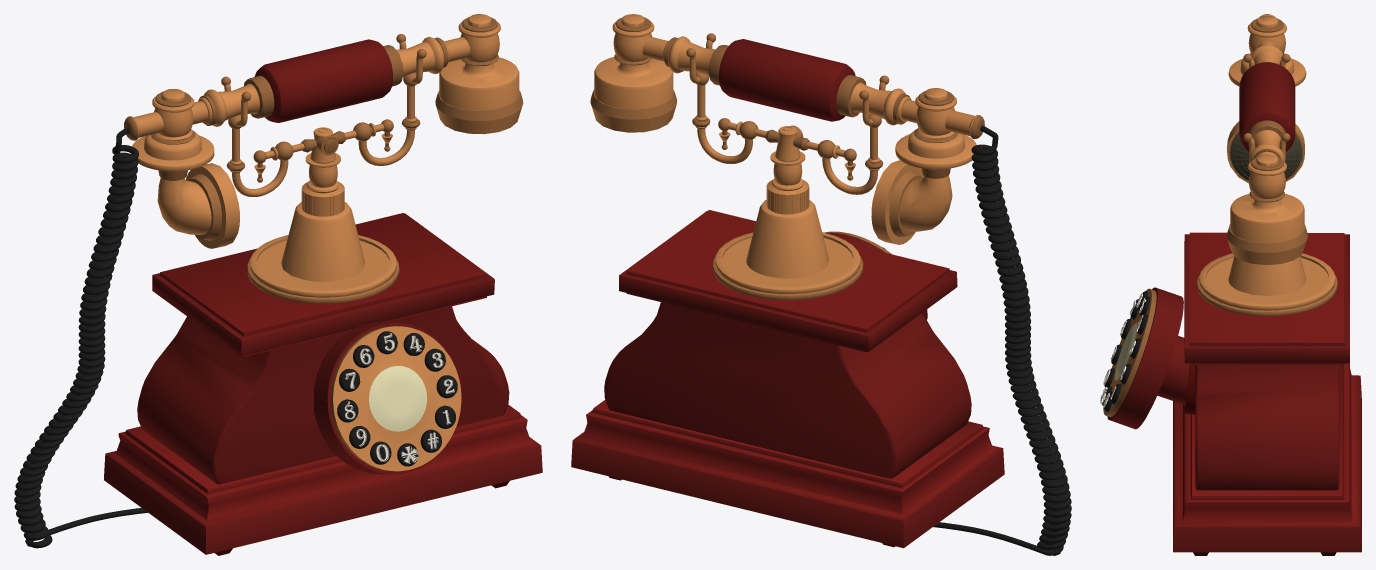
File: antique_telephone.lod1.glb
3 renders of one model, left to right at view 1: azimuth 30°, elevation 25°; view 2: azimuth 150°, elevation 25°; view 3: azimuth 270°, elevation 25°, orthographic. The views are drawn at different scales.
Parts seen in each view (by area): view 1: Cube.006_40, Cube.001_38, Cube_37, Circle.033_42, Circle.035_46, Cylinder.009_13, Circle.002_2, Circle.001_1, Circle.040_43, Cylinder.011_23, Circle.031_31, Circle.032_41 (+18 smaller); view 2: Cube.006_40, Cube.001_38, Cube_37, Circle.035_46, Cylinder.009_13, Circle.002_2, Circle.001_1, Cylinder.011_23, Circle.031_31, Circle.036_52, Circle.003_54, Cylinder.012_24 (+15 smaller); view 3: Cube.006_40, Cube.001_38, Cube_37, Circle.032_41, Circle.001_1, Cylinder.009_13, Cylinder.011_23, Circle.002_2, Circle.033_42, Cylinder.012_24, Circle.046_44, Circle.031_31 (+10 smaller).
Boxes of the visible parts, x1,y1,x2,y2 form: Cube.006_40: (137,306,509,484); Cube.001_38: (104,404,542,554); Cube_37: (152,213,494,357); Circle.033_42: (330,326,461,471); Circle.035_46: (14,145,138,548); Cylinder.009_13: (254,39,392,122); Circle.002_2: (281,202,364,281); Circle.001_1: (250,235,396,297); Circle.040_43: (337,331,457,466); Cylinder.011_23: (439,57,519,130); Circle.031_31: (203,36,444,126); Circle.032_41: (314,322,461,474); Cube.006_40: (604,302,971,478); Cube.001_38: (571,400,1004,548); Cube_37: (619,210,957,352); Circle.035_46: (971,144,1071,551); Cylinder.009_13: (719,39,855,121); Circle.002_2: (746,200,829,278); Circle.001_1: (715,232,860,293); Cylinder.011_23: (594,57,673,129); Circle.031_31: (668,36,906,125); Circle.036_52: (871,160,923,244); Circle.003_54: (899,175,952,231); Cylinder.012_24: (590,89,677,132); Cube.006_40: (1195,364,1339,490); Cube.001_38: (1173,363,1361,552); Cube_37: (1184,232,1349,364); Circle.032_41: (1107,287,1183,429); Circle.001_1: (1199,253,1335,310); Cylinder.009_13: (1239,62,1295,151); Cylinder.011_23: (1230,194,1304,261); Circle.002_2: (1228,256,1306,295); Circle.033_42: (1103,288,1156,417); Cylinder.012_24: (1226,224,1307,265); Circle.046_44: (1157,336,1195,414); Circle.031_31: (1248,45,1286,161).
Size of the model in its own units: 6.99 by 5.97 by 3.49.
